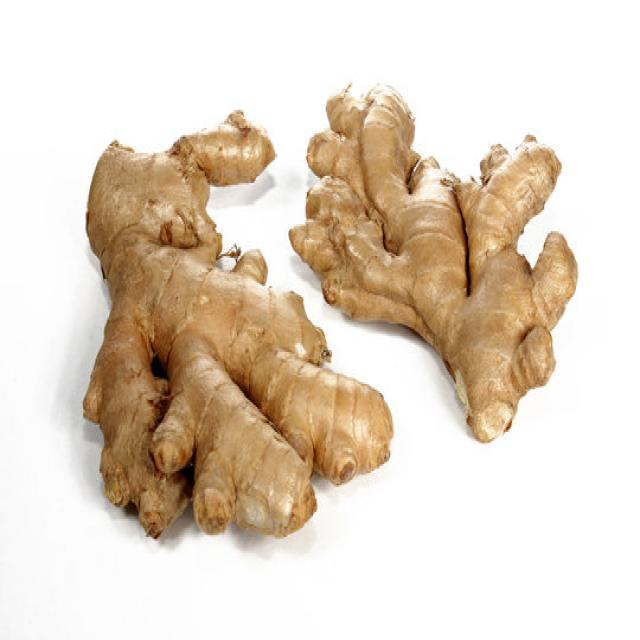Ginger: (70, 110, 383, 542), (288, 80, 578, 443)
